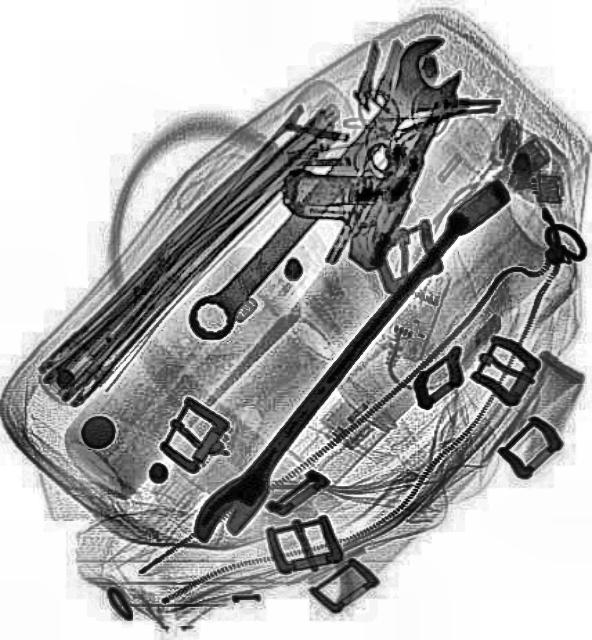Gun: (262, 25, 462, 272)
Wrench: (180, 165, 518, 558), (169, 22, 477, 358)
